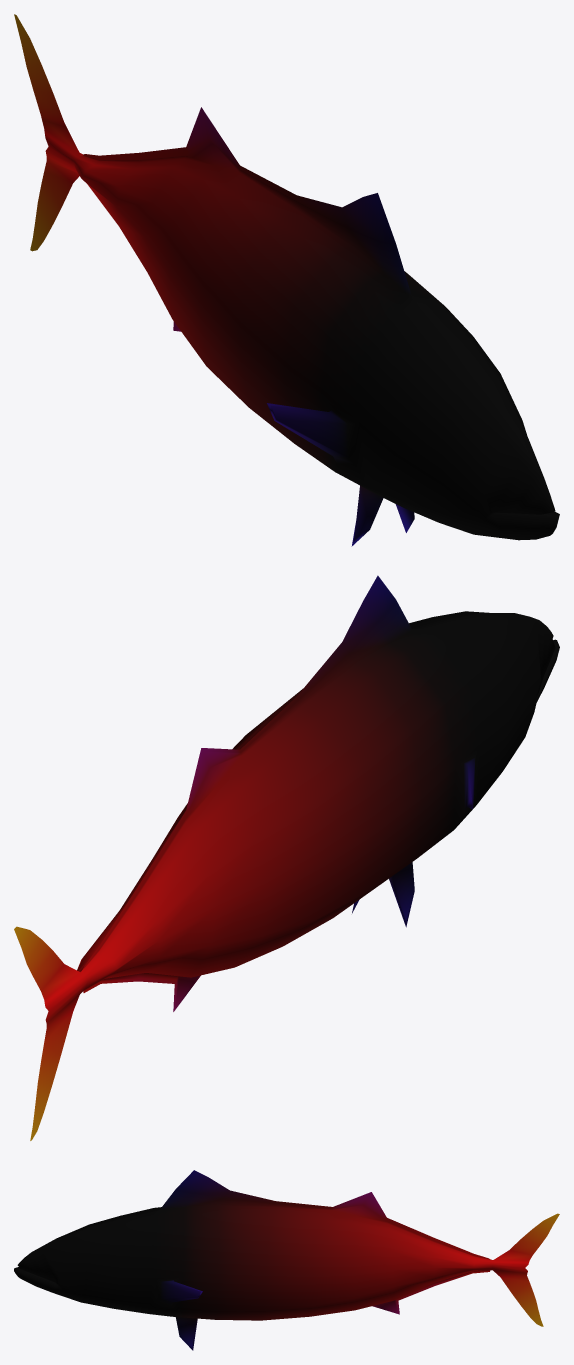
3 views of the same model, one above another, from view 1: azimuth 30°, elevation 25°; view 2: azimuth 150°, elevation 25°; view 3: azimuth 270°, elevation 25° (orthographic). The views are drawn at different scales.
Parts seen in each view (by area): view 1: atlantic bonito final; view 2: atlantic bonito final; view 3: atlantic bonito final.
Boxes of the visible parts, x1,y1,x2,y2 form: atlantic bonito final: [14, 14, 559, 546]; atlantic bonito final: [14, 575, 559, 1140]; atlantic bonito final: [14, 1170, 559, 1350].
Size of the model in its own units: 0.151 by 0.2442 by 0.6936.
